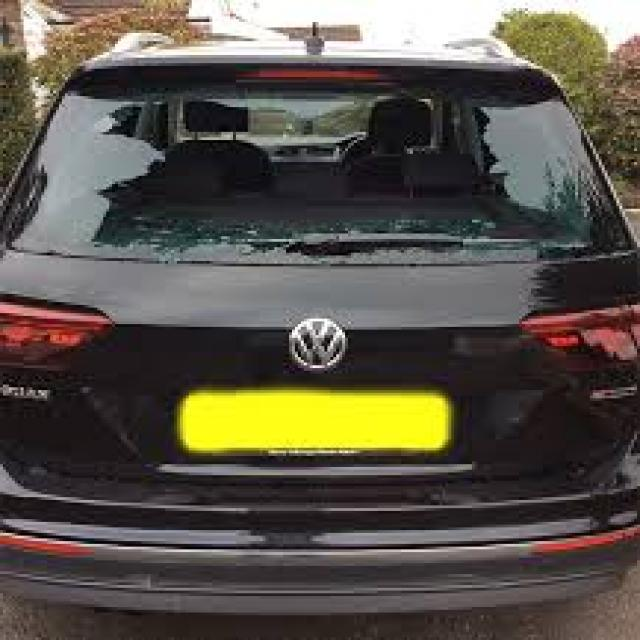damaged-rear-window: (8, 73, 611, 270)
